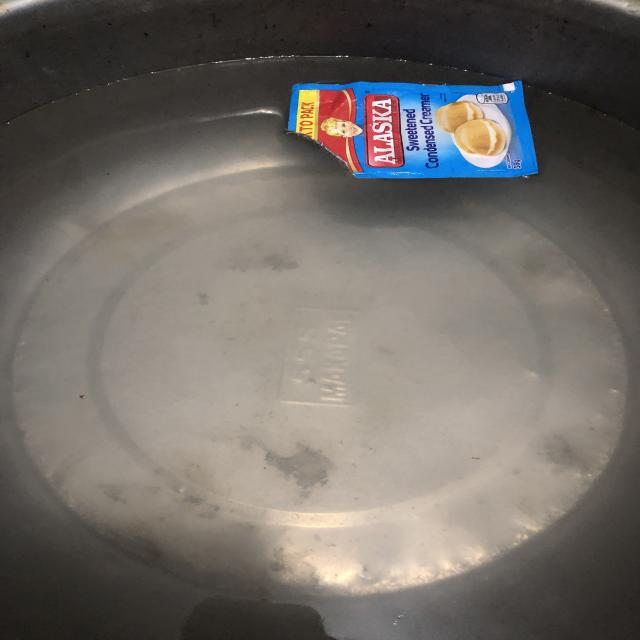Plastic Wrapper: (266, 60, 554, 203)
